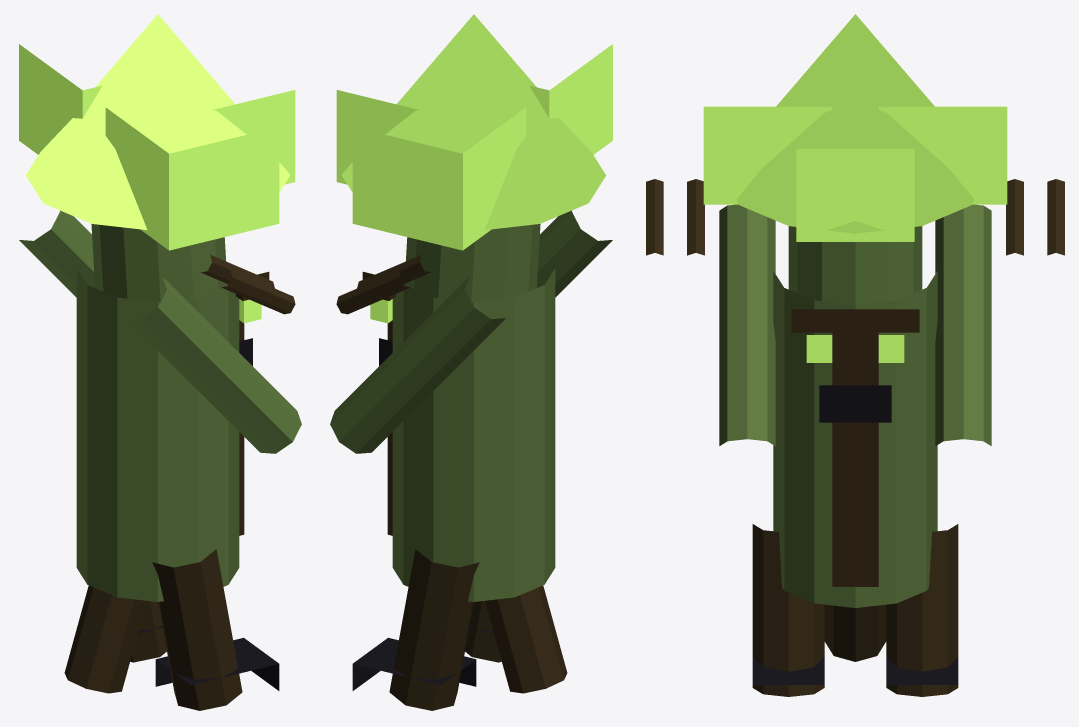
Rendered from treant.glb.
3 renders of one model, left to right at view 1: azimuth 30°, elevation 25°; view 2: azimuth 150°, elevation 25°; view 3: azimuth 270°, elevation 25°, orthographic.
Parts seen in each view (by area): view 1: treant-trunk, treant-canopy-top, treant-canopy-l, treant-arm-l, treant-root-l, treant-trunk-upper, treant-root-back, treant-canopy-r, treant-arm-r, treant-canopy-f, treant-twig-l (×2), treant-root-foot-l (+3 smaller); view 2: treant-trunk, treant-canopy-top, treant-canopy-r, treant-arm-r, treant-root-r, treant-trunk-upper, treant-root-back, treant-canopy-l, treant-arm-l, treant-canopy-f, treant-twig-r (×2), treant-root-foot-r (+3 smaller); view 3: treant-trunk, treant-canopy-top, treant-arm-l, treant-arm-r, treant-canopy-f, treant-bark-ridge, treant-trunk-upper, treant-root-l, treant-root-r, treant-canopy-l, treant-canopy-r, treant-root-back (+8 smaller).
Part boxes in pixels (x1,y1,x2,y2): treant-trunk: (76, 268, 239, 601); treant-canopy-top: (26, 14, 289, 230); treant-canopy-l: (105, 107, 279, 250); treant-arm-l: (126, 277, 301, 453); treant-root-l: (152, 549, 242, 710); treant-trunk-upper: (91, 224, 227, 301); treant-root-back: (64, 585, 146, 693); treant-canopy-r: (19, 44, 102, 154); treant-arm-r: (19, 210, 94, 297); treant-canopy-f: (212, 90, 295, 184); treant-twig-l (×2): (201, 255, 295, 314); treant-root-foot-l: (155, 637, 279, 690); treant-trunk: (392, 268, 555, 601); treant-canopy-top: (342, 14, 605, 230); treant-canopy-r: (352, 107, 526, 250); treant-arm-r: (330, 277, 505, 453); treant-root-r: (389, 549, 479, 710); treant-trunk-upper: (404, 224, 540, 301); treant-root-back: (485, 585, 567, 693); treant-canopy-l: (529, 44, 612, 154); treant-arm-l: (537, 210, 612, 297); treant-canopy-f: (336, 90, 419, 184); treant-twig-r (×2): (336, 255, 430, 314); treant-root-foot-r: (352, 637, 476, 690); treant-trunk: (773, 271, 937, 607); treant-canopy-top: (736, 14, 974, 233); treant-arm-l: (719, 204, 775, 446); treant-arm-r: (935, 204, 991, 446); treant-canopy-f: (796, 148, 914, 241); treant-bark-ridge: (832, 332, 878, 586); treant-trunk-upper: (788, 226, 922, 304); treant-root-l: (752, 524, 824, 696); treant-root-r: (886, 524, 958, 696); treant-canopy-l: (703, 106, 832, 204); treant-canopy-r: (878, 106, 1007, 204); treant-root-back: (824, 604, 886, 661).
Bounding box in the file's own units: 1.04 × 2.88 × 1.63.
